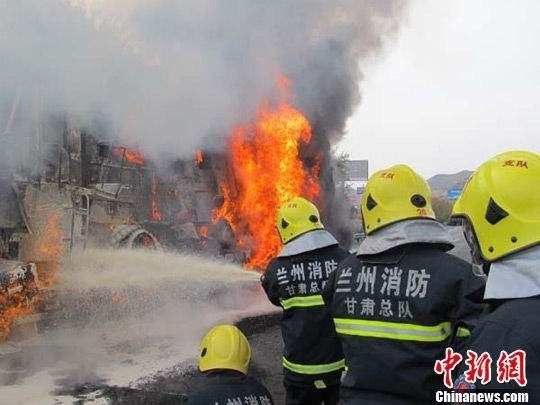fire: (208, 94, 325, 268), (112, 142, 146, 163)
